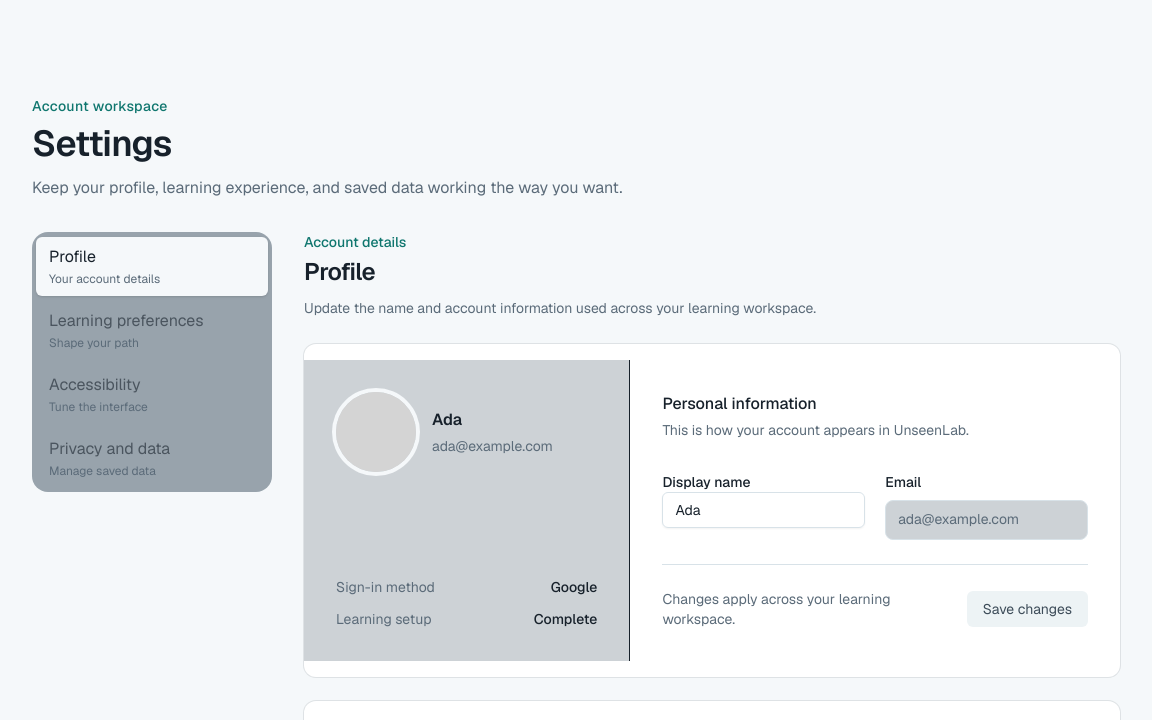
Test: Settings — Profile tab › shows the error state when the account layer is unconfigured
Click the button "Save changes": (1027, 609) x1=967 y1=591 x2=1088 y2=627
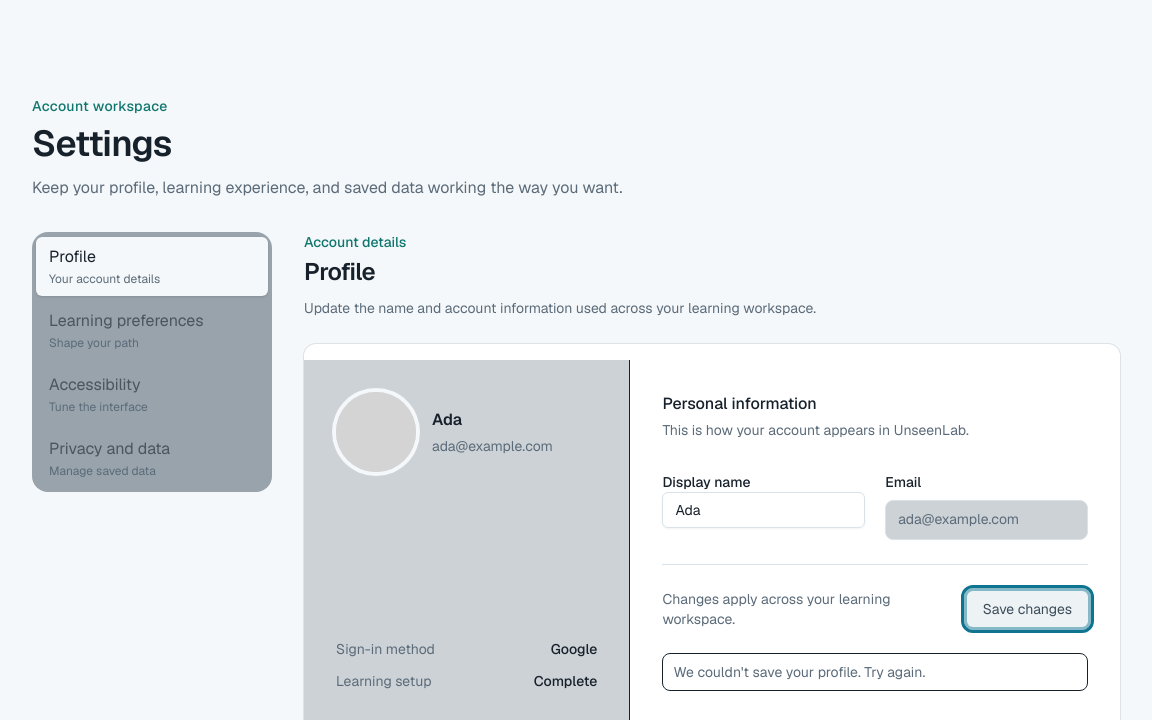
Expected: the text "We couldn't save your profile. Try again." is shown, x1=673 y1=663 x2=925 y2=681
